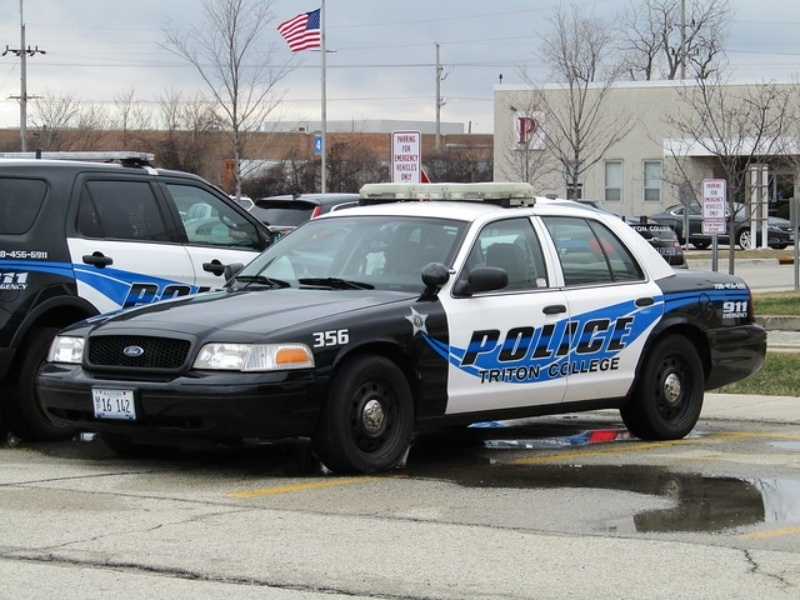policecar: (300, 184, 776, 450)
